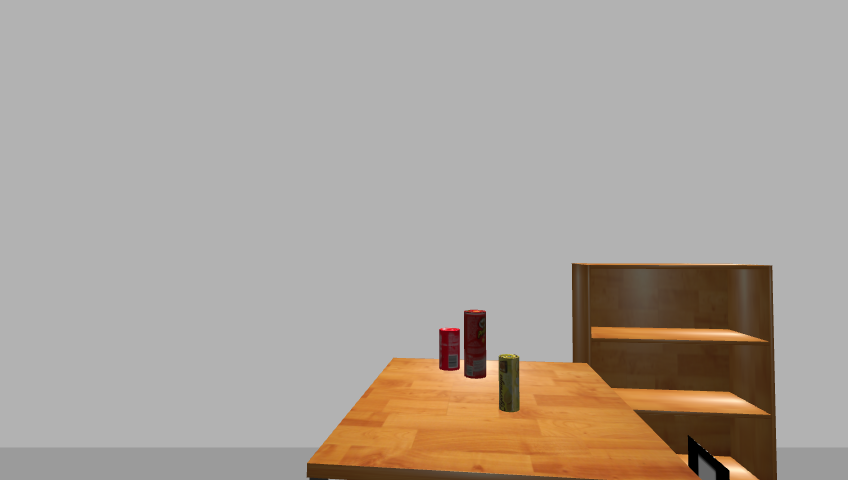aruco marker: (683, 437, 733, 480)
biscuits pack: (498, 354, 521, 413)
bookshelf: (567, 261, 782, 479)
coke can: (436, 326, 463, 373)
dinner table: (301, 356, 710, 480)
pringles can: (461, 309, 489, 381)
